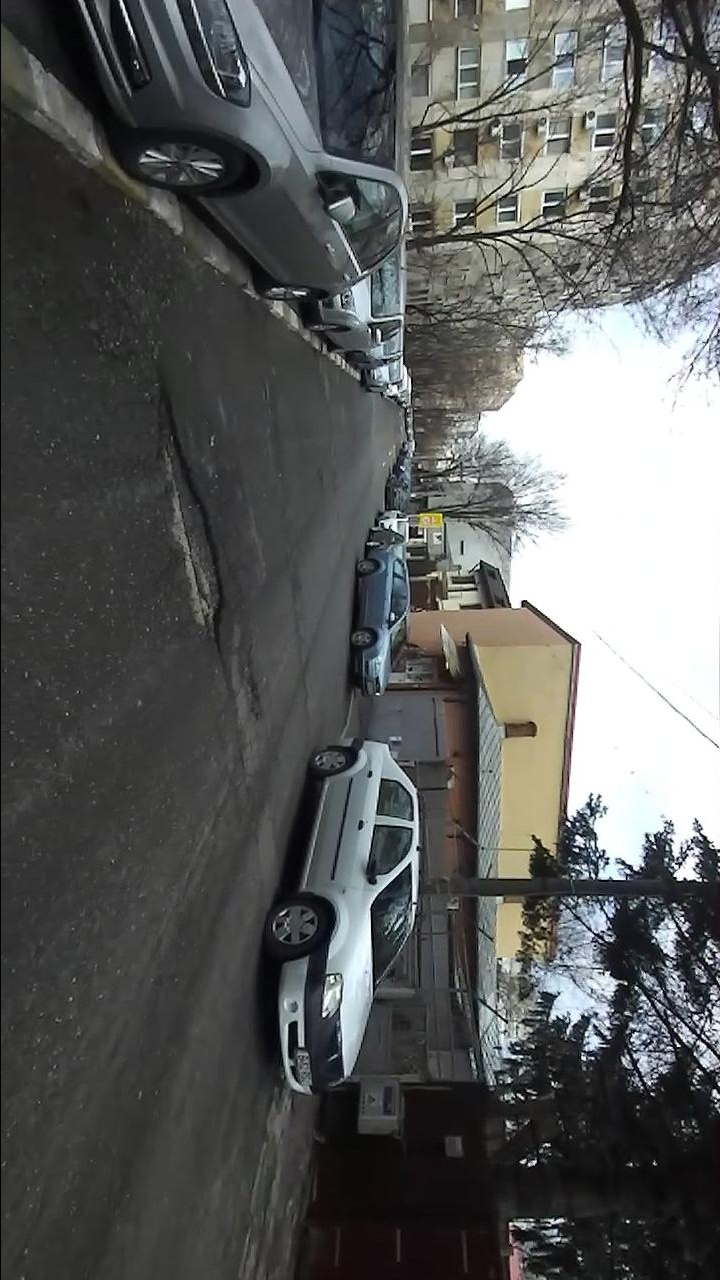pothole: (160, 381, 227, 677), (240, 645, 268, 726)
